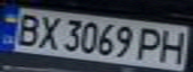0: (78, 19, 100, 55)
3: (60, 17, 84, 53)
6: (97, 21, 118, 57)
9: (112, 22, 139, 60)
B: (9, 10, 45, 47)
H: (154, 28, 190, 64)
P: (133, 25, 169, 62)
X: (33, 12, 63, 51)
